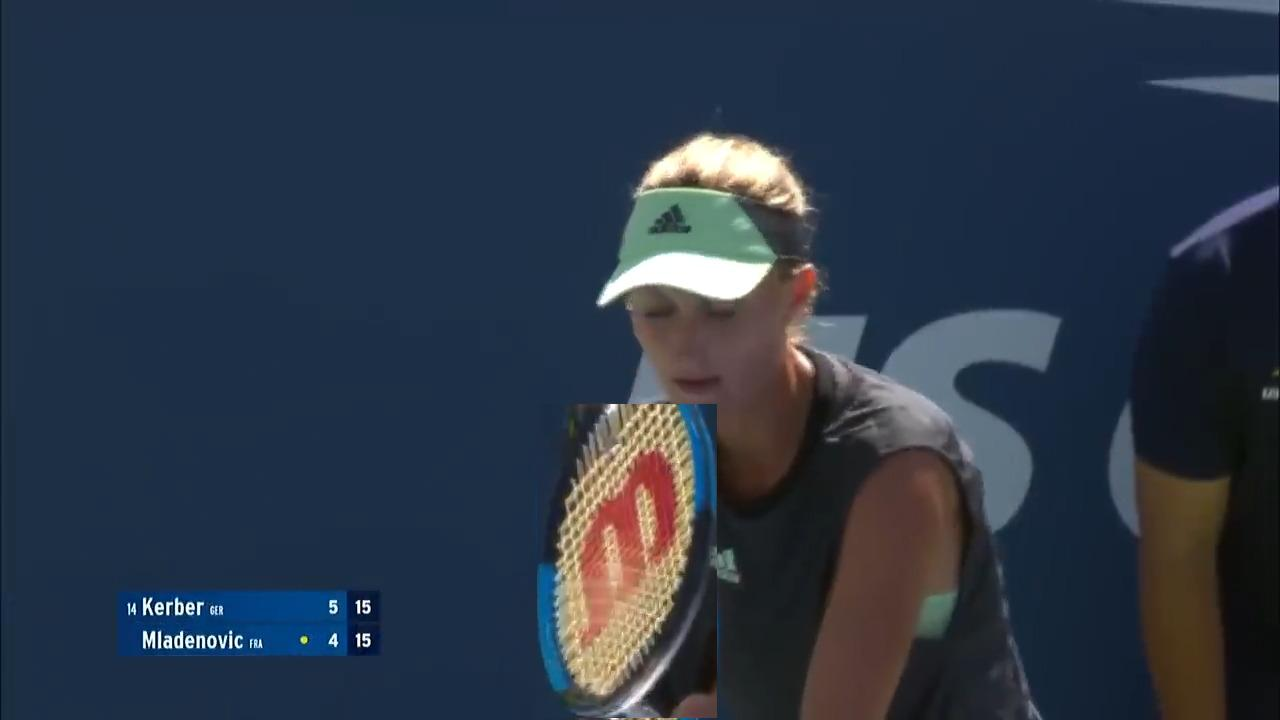tennis racket: (537, 405, 717, 718)
